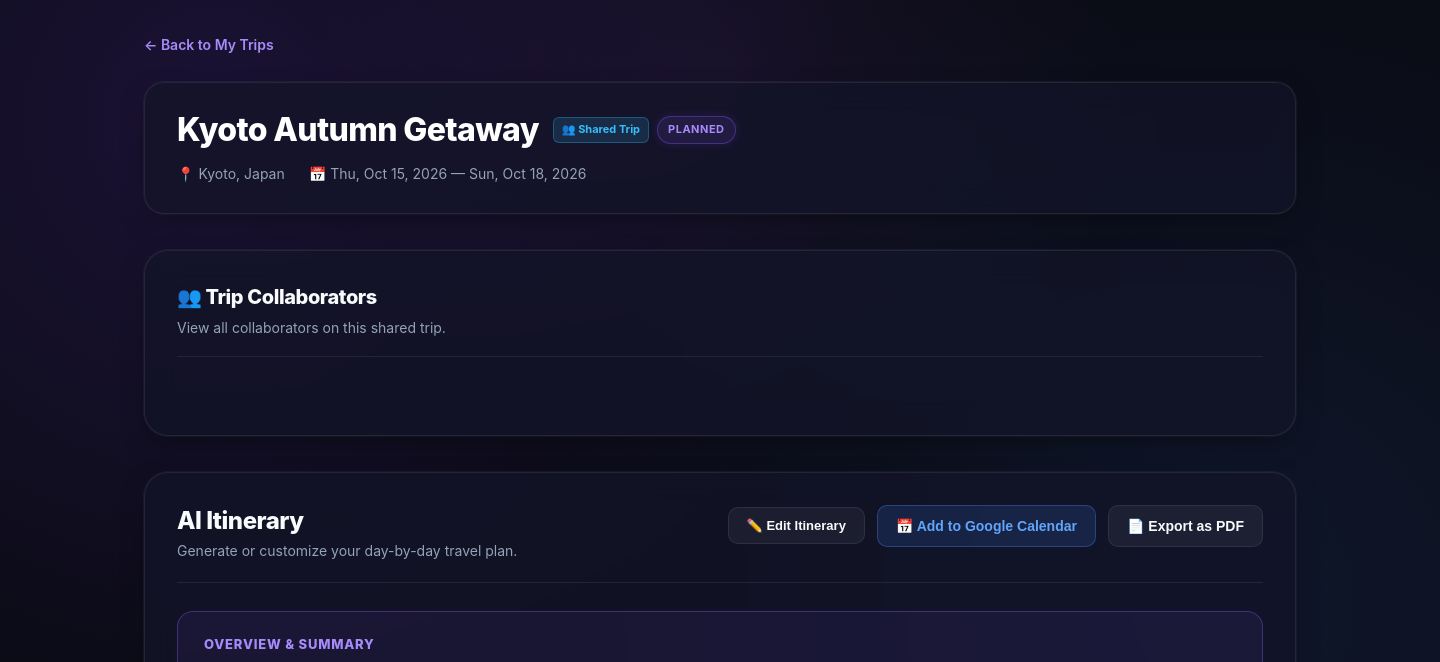
TripDetailsPage User-Editable Itinerary › handles API failure when saving and displays error banner without losing edit state
Click the button with test id "edit-itinerary-btn": (796, 526) x1=728 y1=507 x2=865 y2=544
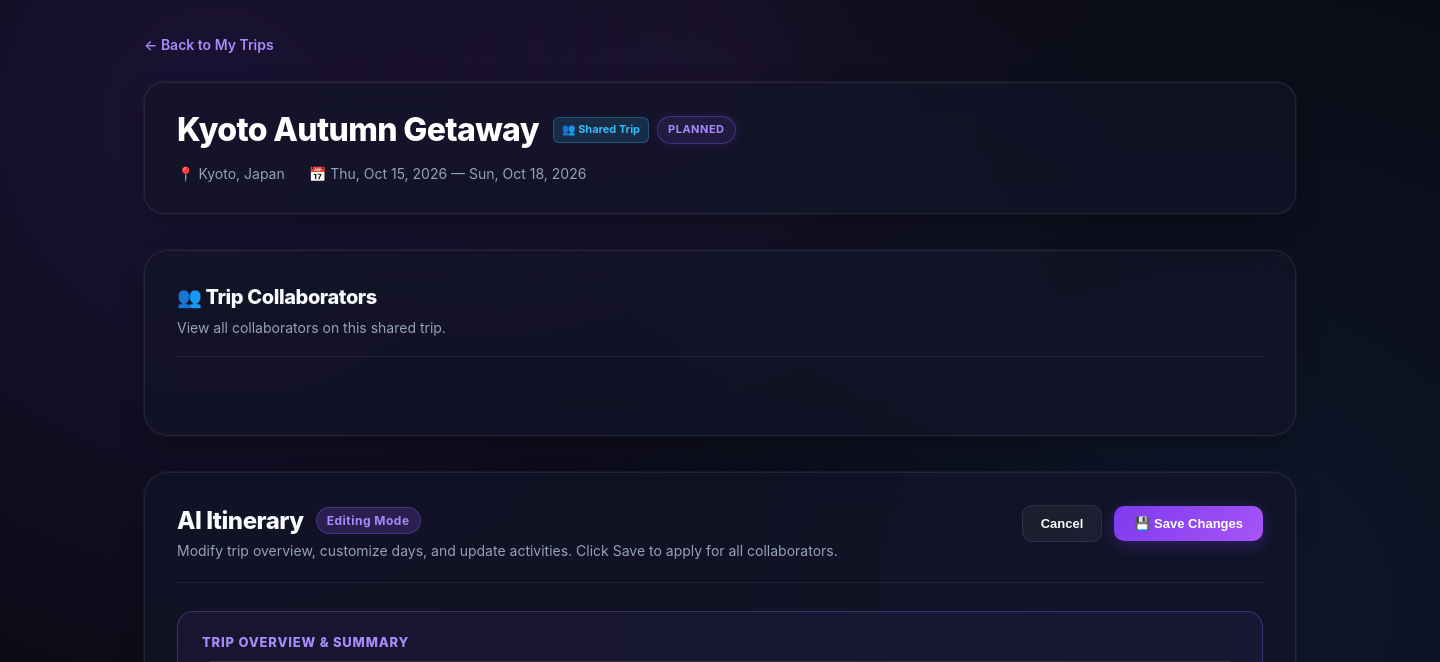
Click the button with test id "save-itinerary-btn": (1189, 523) x1=1114 y1=506 x2=1263 y2=541
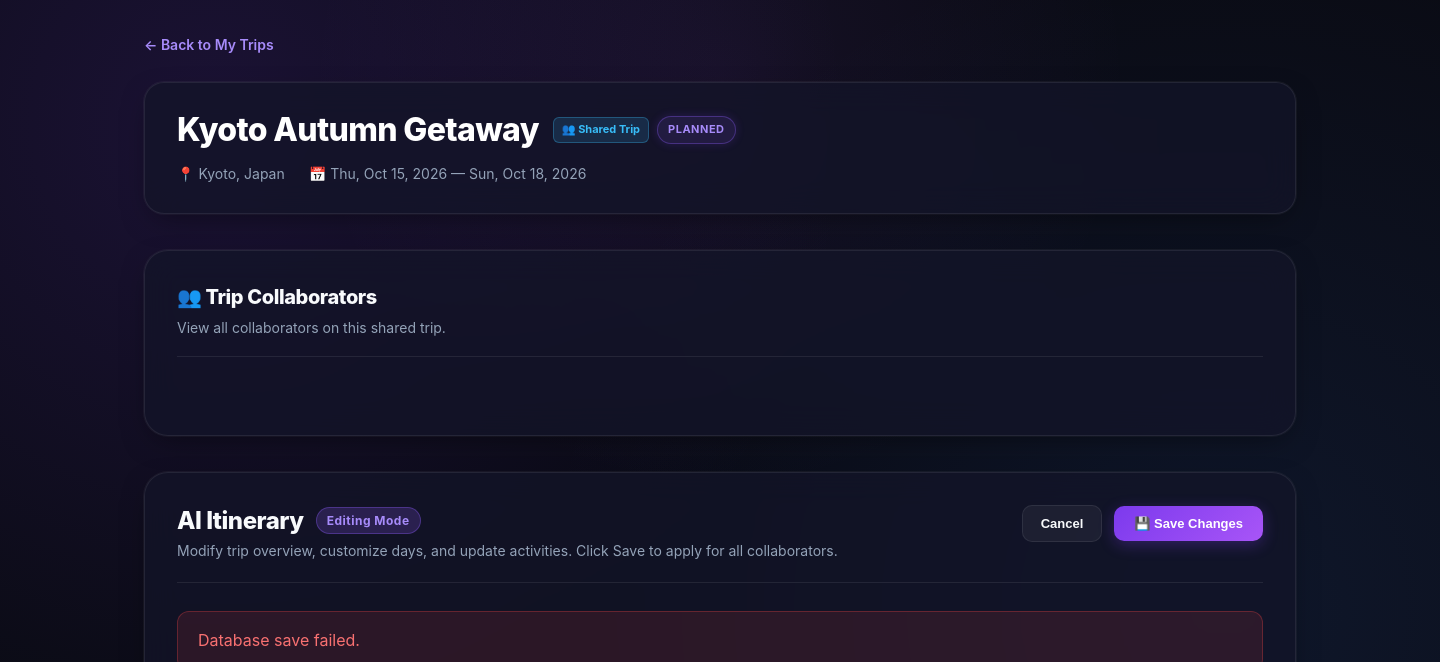
Check: the text "Editing Mode" is shown, box x1=316 y1=507 x2=421 y2=534
Check: the message with test id "itinerary-error-banner" reads "Database save failed.", box x1=198 y1=630 x2=360 y2=650
